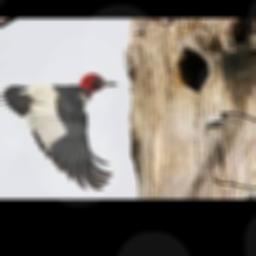Woodpecker: (0, 74, 117, 190)
